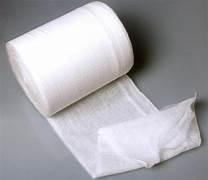cotton: (6, 2, 200, 176), (47, 76, 200, 176), (6, 2, 132, 115), (47, 76, 158, 176), (96, 97, 200, 174)
